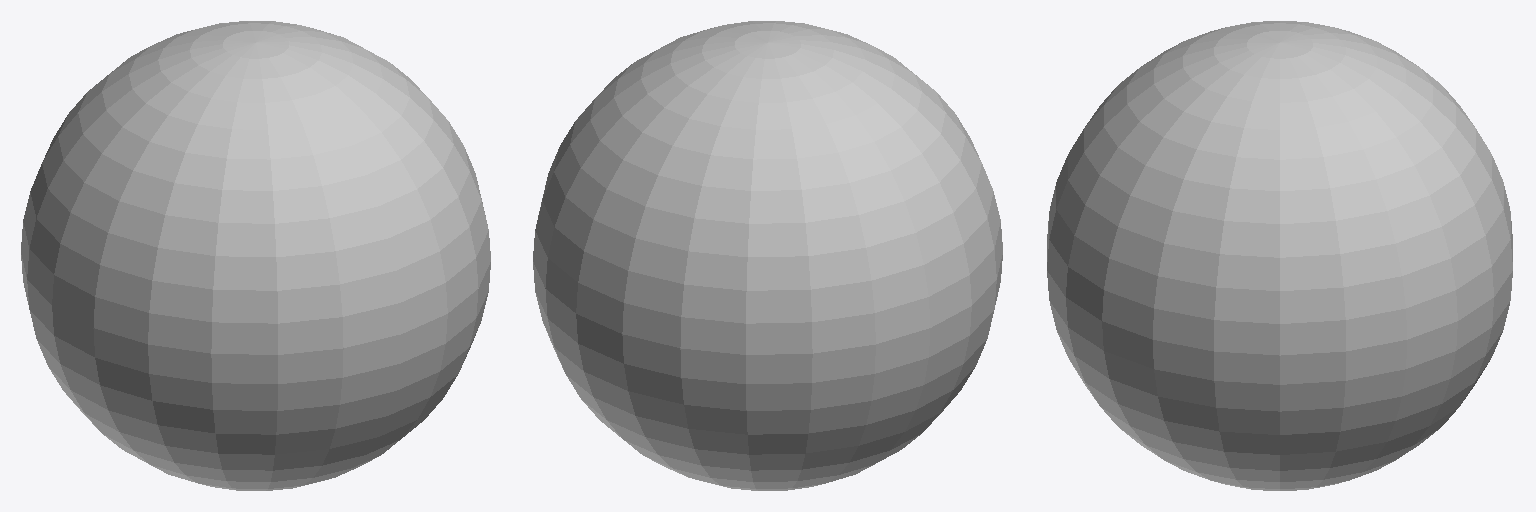
The model's file is SkyCubeTest.obj.
The picture shows the model from 3 angles: view 1: azimuth 30°, elevation 25°; view 2: azimuth 150°, elevation 25°; view 3: azimuth 270°, elevation 25°; orthographic projection.
Parts seen in each view (by area): view 1: Sphere Mesh Mesh; view 2: Sphere Mesh Mesh; view 3: Sphere Mesh Mesh.
Part boxes in pixels (bbox=[...]): Sphere Mesh Mesh: bbox=[21, 21, 490, 490]; Sphere Mesh Mesh: bbox=[533, 21, 1002, 490]; Sphere Mesh Mesh: bbox=[1047, 21, 1512, 490].
Size of the model in its own units: 144 by 144 by 143.